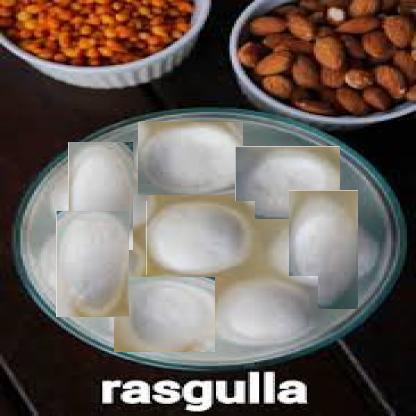rasgulla: (276, 203, 371, 297), (146, 201, 255, 275), (48, 220, 138, 309), (137, 121, 243, 195), (113, 276, 215, 352), (235, 146, 340, 219), (58, 153, 144, 240), (212, 276, 318, 346)
